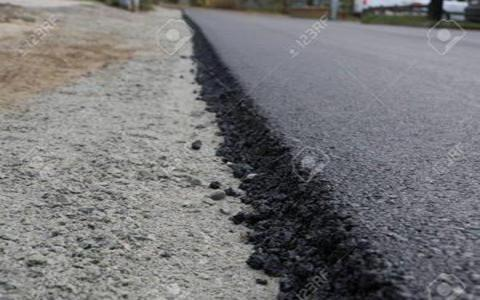Proper road: (238, 27, 462, 235)
